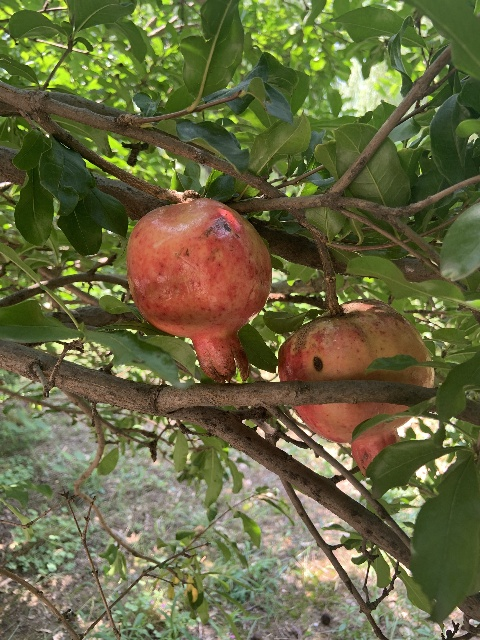ripe: (278, 298, 433, 476), (126, 198, 271, 384)
